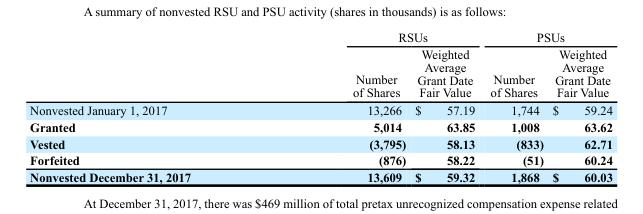table: (29, 29, 611, 183)
table column: (29, 29, 271, 183), (271, 29, 409, 183), (409, 29, 481, 183), (481, 29, 547, 183), (547, 29, 611, 183)
table column header: (29, 29, 611, 100)
table row: (29, 45, 611, 100), (29, 100, 611, 118), (29, 118, 611, 135), (29, 151, 611, 168), (29, 29, 611, 45), (29, 135, 611, 151), (29, 168, 611, 183)
table spanning cell: (271, 29, 481, 45), (481, 29, 611, 45)
